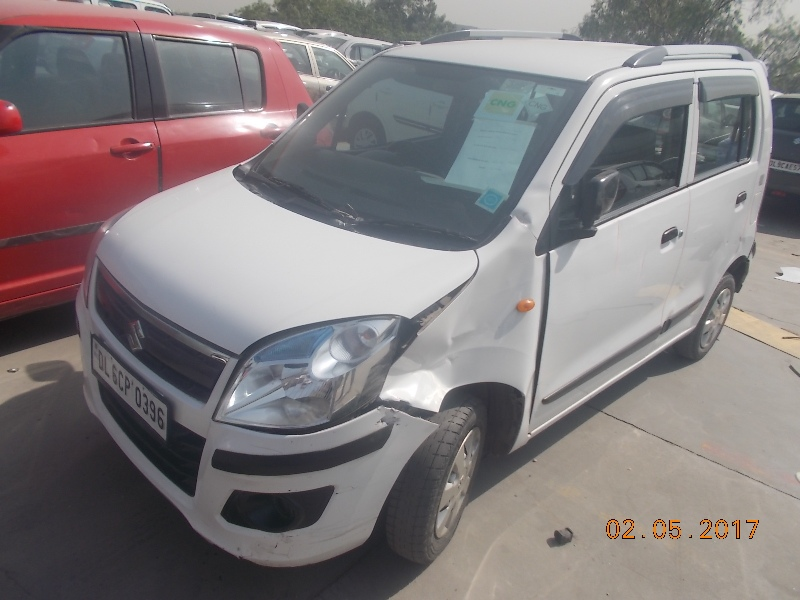Dent: (419, 331, 508, 379), (510, 207, 535, 236)
Dislocation: (529, 252, 555, 418), (382, 390, 436, 436)
